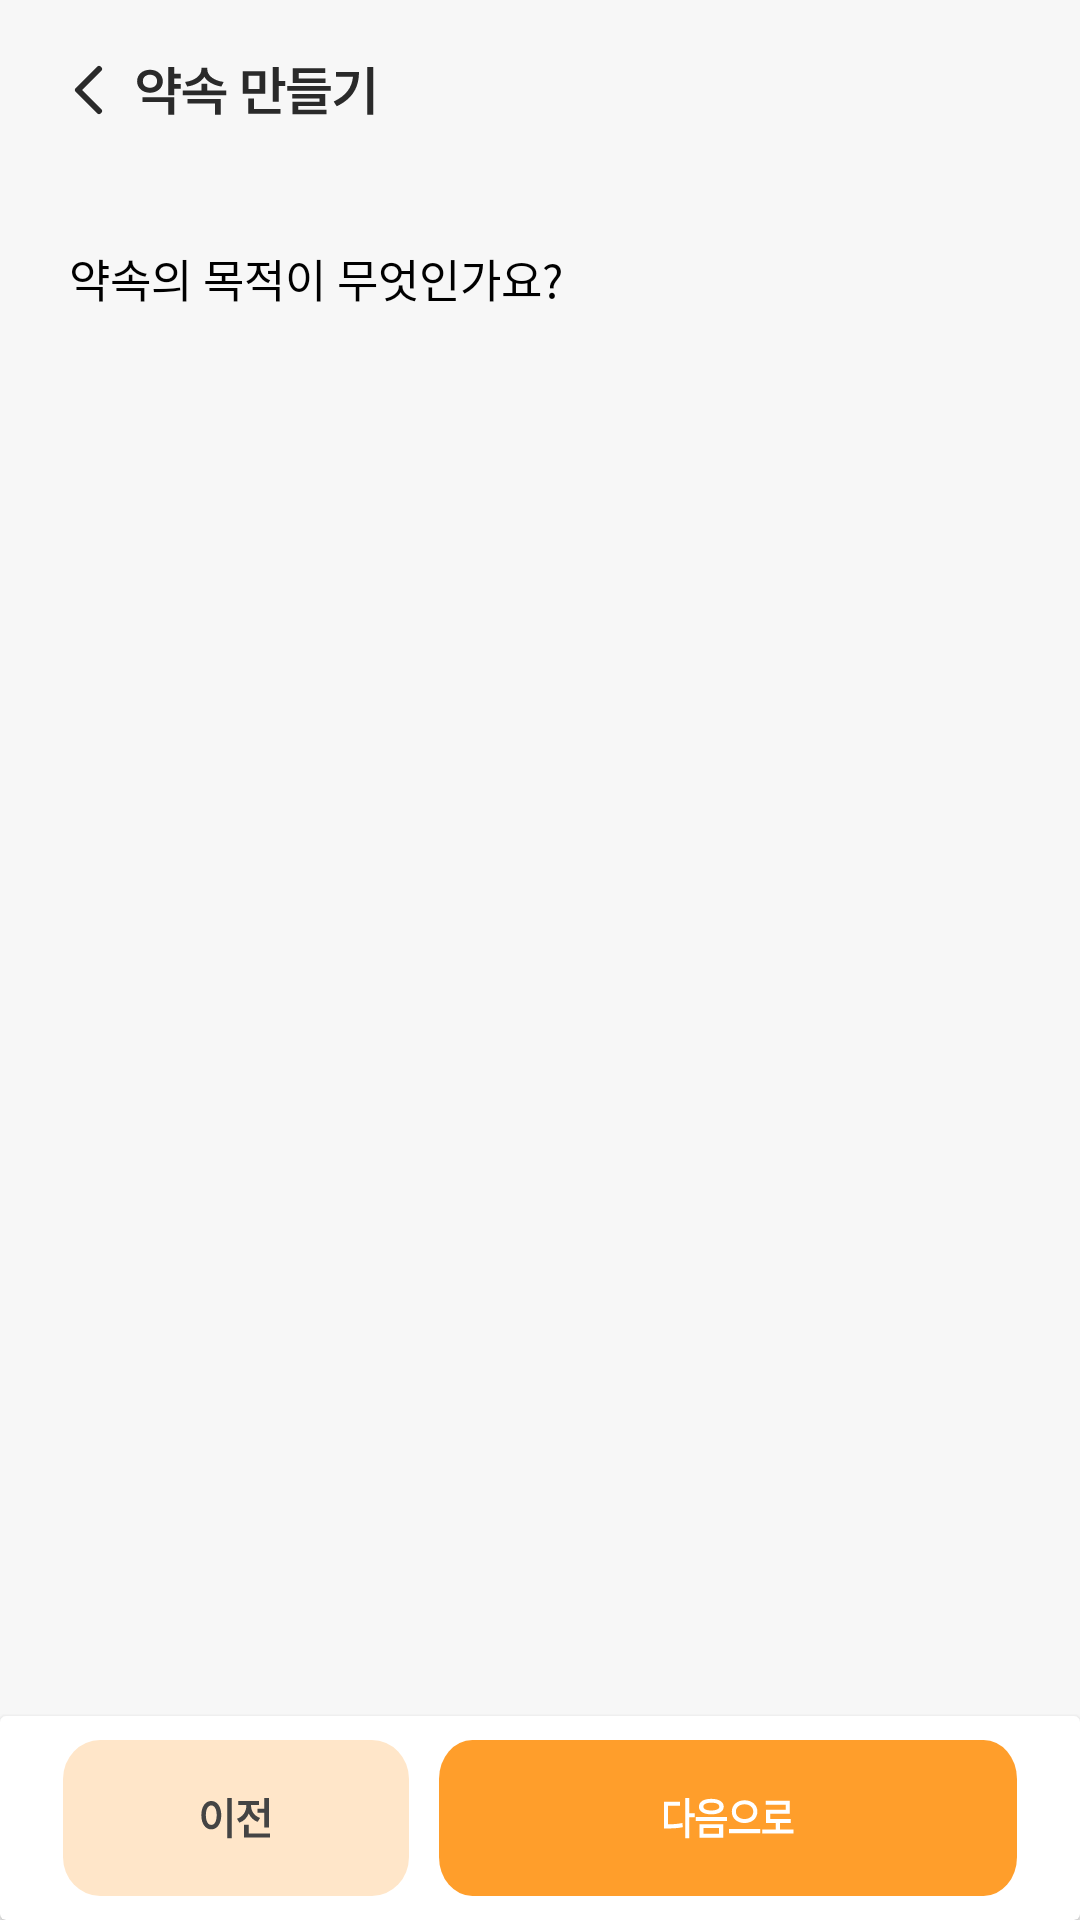

Named icons in this screenshot (1080×1920) and their bounding boxes, (x1, y1, x2, y2):
navigate up: (75, 66, 102, 114)
